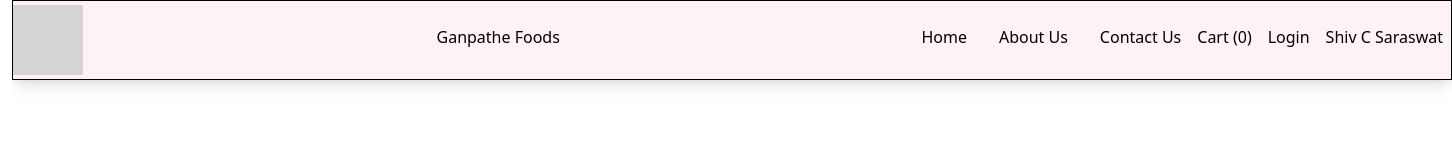
Test case: Testing header component › Testing the navigation component › Should test if Navigation Bar components are rendered
Expected: the link "Home" is shown, [921,26,967,48]
Expected: the link "About Us" is shown, [999,26,1068,48]
Step 1. Click the button "Login" → coordinates (1289, 37), box [1268,25,1310,49]
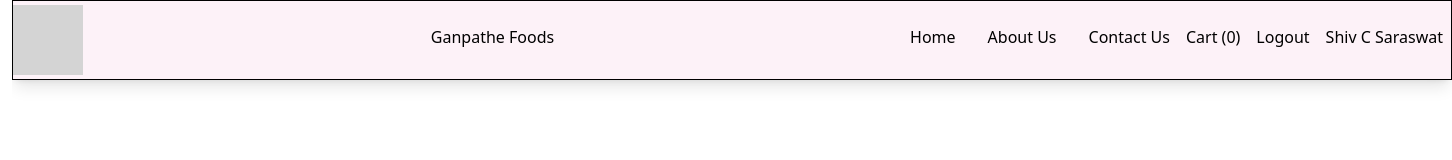
Result: the button "Logout" is shown at [1256,25,1310,49]
